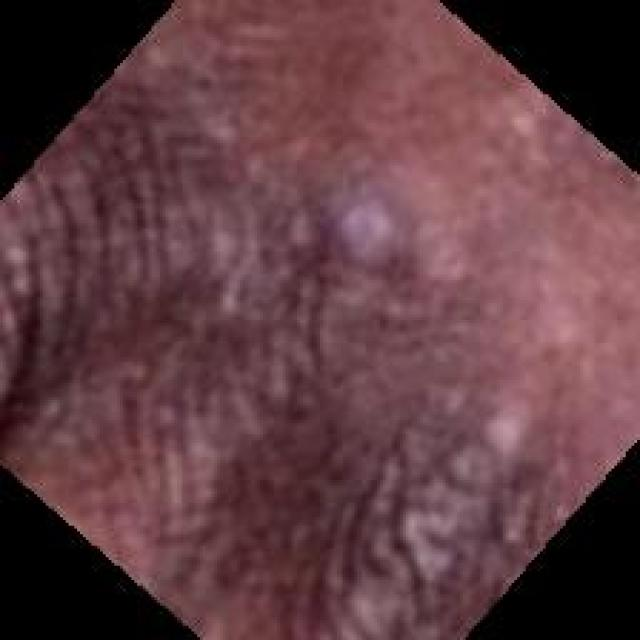monkeypox: (0, 41, 545, 640)
